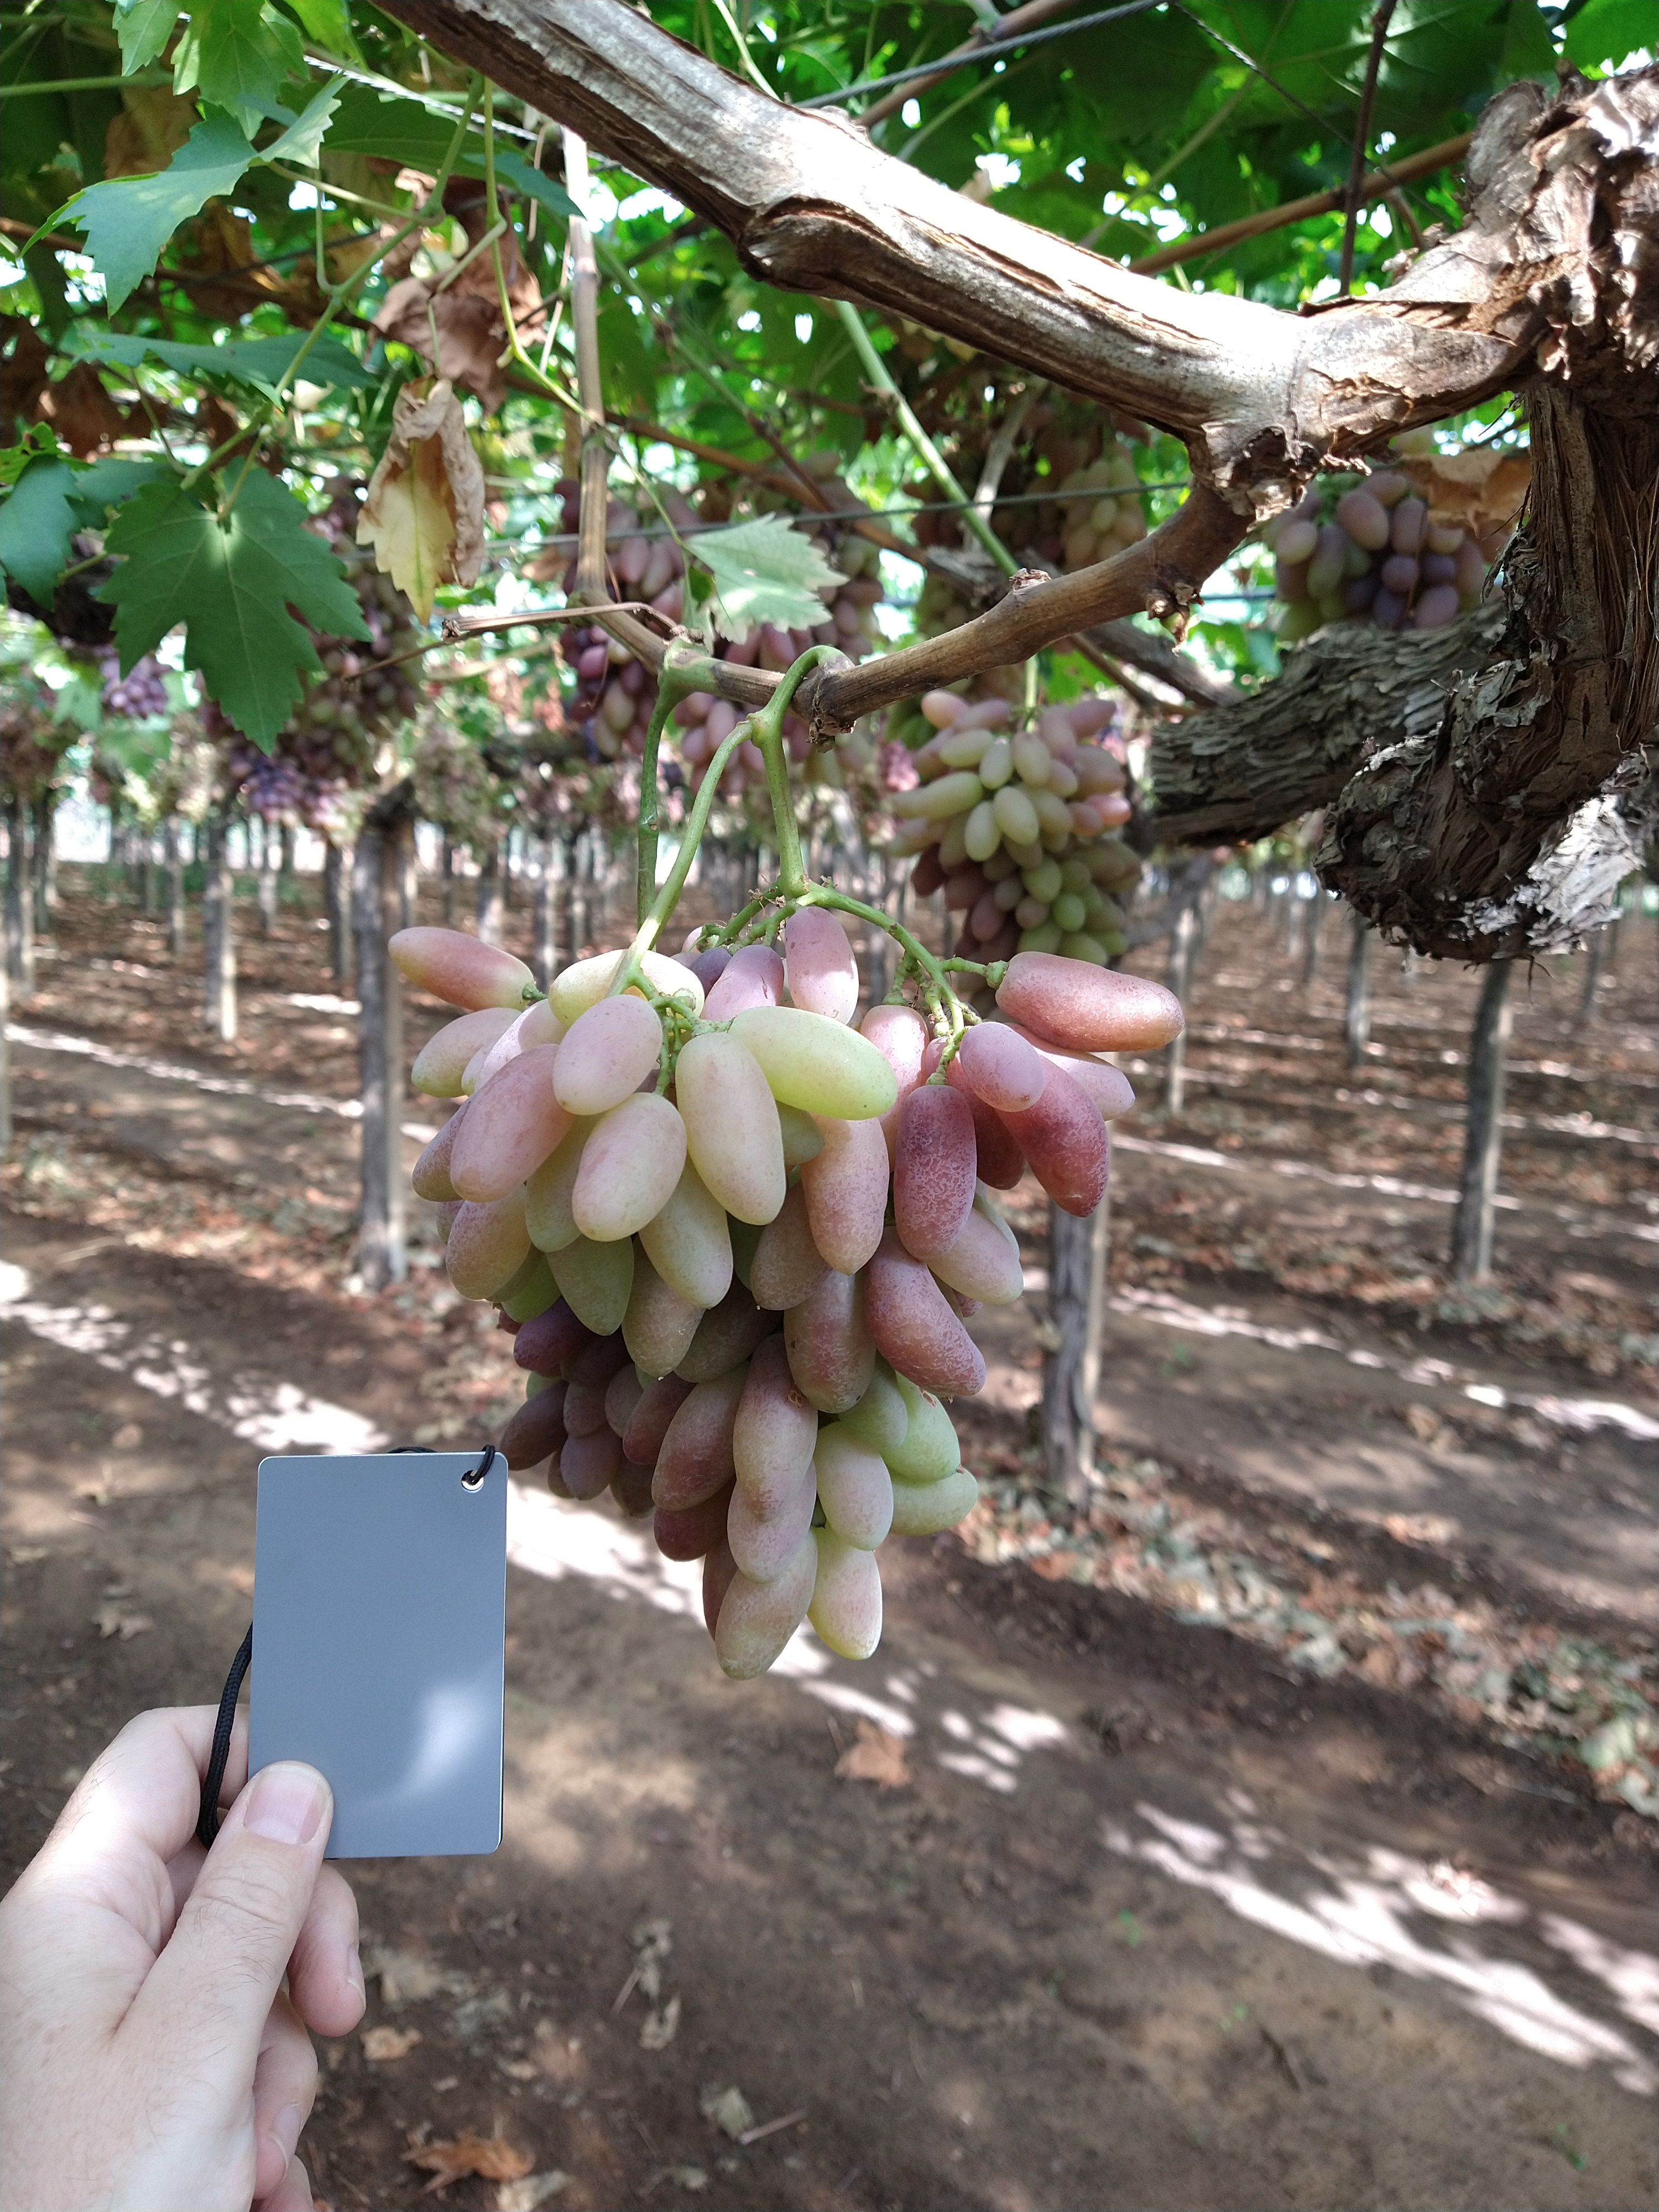acino: (674, 1029, 789, 1228), (725, 1007, 901, 1122), (863, 1238, 988, 1399), (993, 948, 1188, 1050), (448, 1045, 573, 1204), (997, 1061, 1112, 1216), (572, 1090, 687, 1242), (890, 1082, 981, 1263), (732, 1334, 816, 1522), (798, 1111, 892, 1277), (652, 1364, 753, 1514), (636, 1158, 734, 1312), (784, 1261, 873, 1416), (383, 925, 538, 1012), (554, 993, 662, 1116), (716, 1550, 817, 1681), (725, 1454, 819, 1583), (814, 1421, 896, 1554), (410, 1008, 525, 1099), (807, 1526, 884, 1660), (444, 1186, 532, 1299), (786, 904, 861, 1028), (1035, 1033, 1138, 1122), (622, 1277, 708, 1378), (549, 1240, 636, 1338), (958, 1021, 1047, 1113), (748, 1217, 833, 1313), (699, 944, 784, 1019), (619, 1376, 688, 1465), (655, 1486, 734, 1561), (408, 1101, 465, 1202), (512, 1299, 589, 1374), (904, 1392, 964, 1486), (890, 1474, 974, 1538), (556, 1435, 613, 1500), (561, 1379, 605, 1440)
